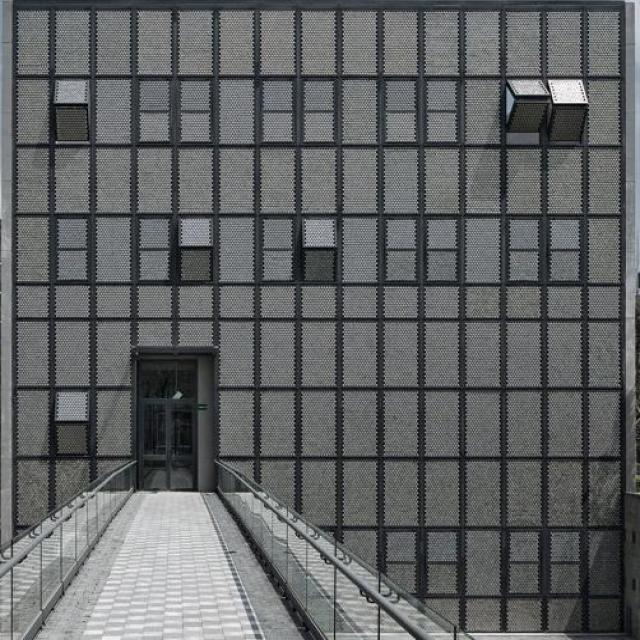door: (132, 351, 202, 487)
wall: (3, 0, 627, 638)
